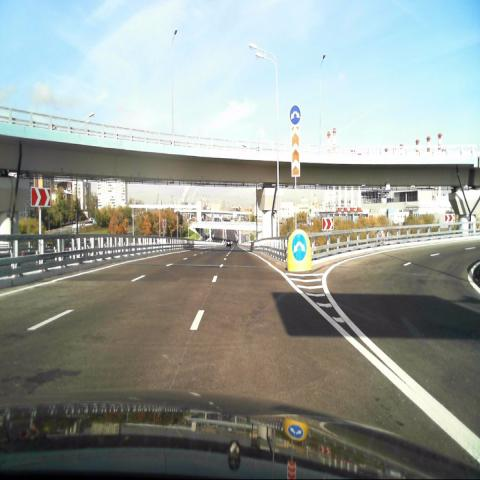4_2_3: (292, 232, 306, 260), (289, 104, 301, 127)
